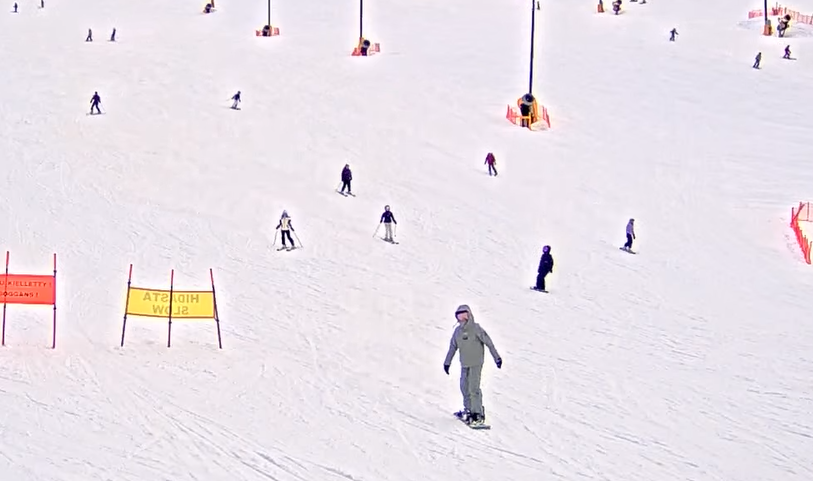skier: (271, 210, 305, 252), (372, 202, 400, 246), (334, 163, 357, 198), (84, 91, 107, 115), (482, 150, 499, 176), (225, 86, 243, 110)
snowboarder: (440, 303, 505, 429), (528, 244, 554, 293), (619, 215, 640, 255)
